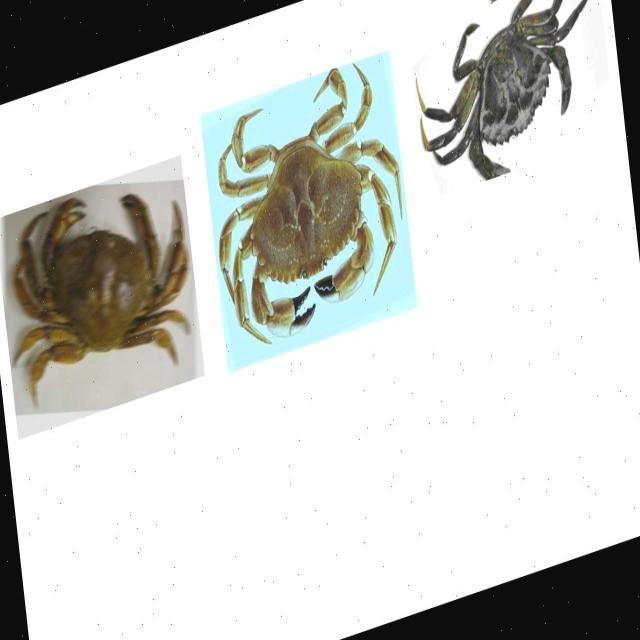egc: (413, 0, 588, 183)
